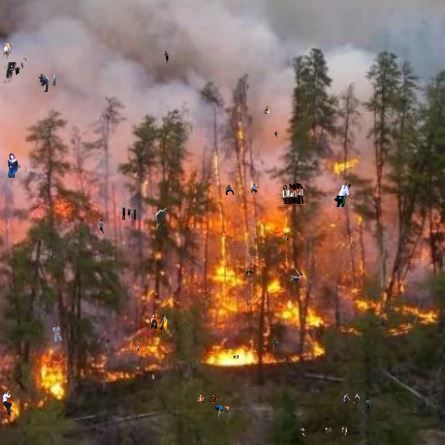Human: (281, 183, 306, 204), (6, 153, 27, 178), (300, 426, 347, 437), (334, 180, 353, 207), (191, 405, 230, 418), (1, 62, 24, 84), (31, 73, 57, 92), (225, 183, 260, 195), (146, 314, 168, 332), (155, 208, 172, 229), (2, 390, 13, 415), (52, 323, 63, 346), (122, 205, 137, 221), (288, 268, 303, 283), (197, 393, 217, 404), (1, 42, 13, 60), (343, 393, 360, 405), (362, 399, 370, 412), (306, 96, 315, 107), (162, 51, 169, 64), (99, 219, 104, 234), (272, 341, 282, 348), (245, 268, 253, 276), (263, 106, 270, 114), (19, 55, 27, 61), (274, 131, 279, 138), (27, 358, 37, 361), (233, 355, 239, 359), (283, 238, 289, 242), (53, 252, 56, 259), (404, 239, 407, 246), (106, 338, 110, 343), (412, 408, 416, 413), (393, 135, 397, 140), (137, 344, 139, 353), (152, 374, 155, 380)
